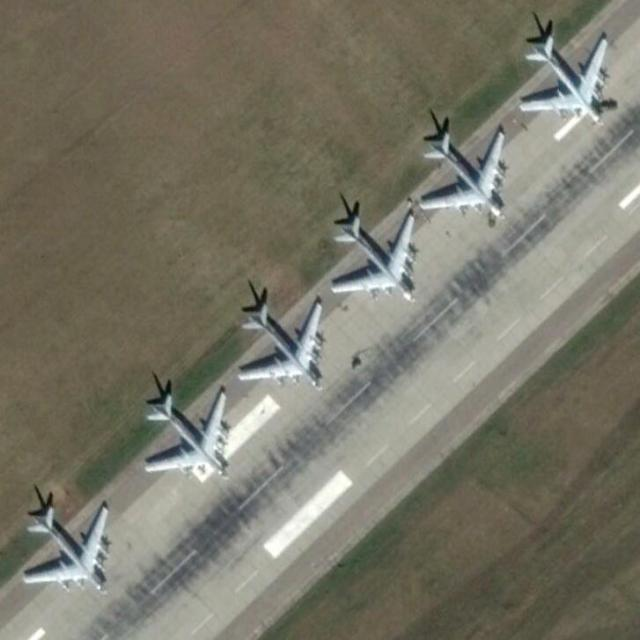fighter jet: (508, 29, 613, 128), (235, 292, 331, 400), (418, 114, 516, 216), (142, 373, 233, 481), (327, 197, 423, 299), (13, 489, 108, 589)
